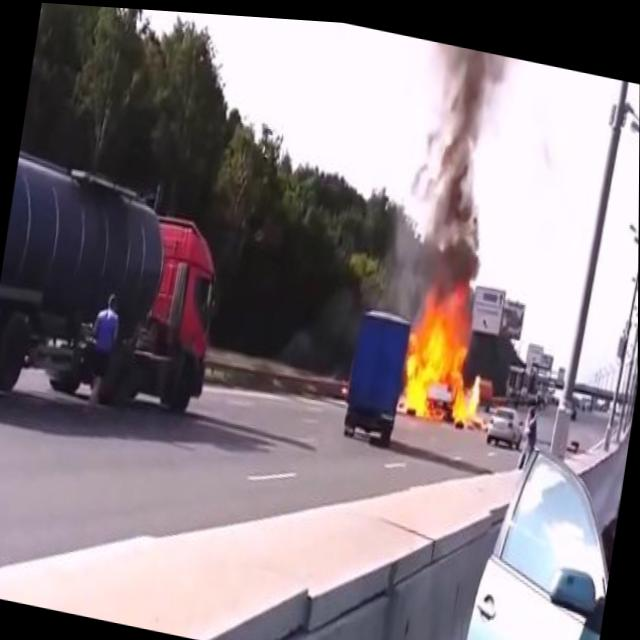fire: (395, 257, 501, 434)
